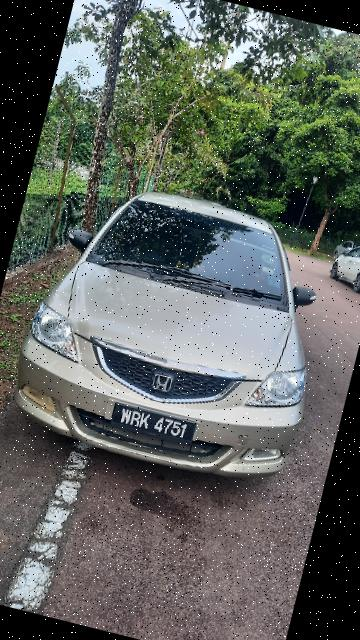License_Plate: (106, 401, 203, 450)
car: (6, 166, 350, 496), (310, 223, 360, 298)
